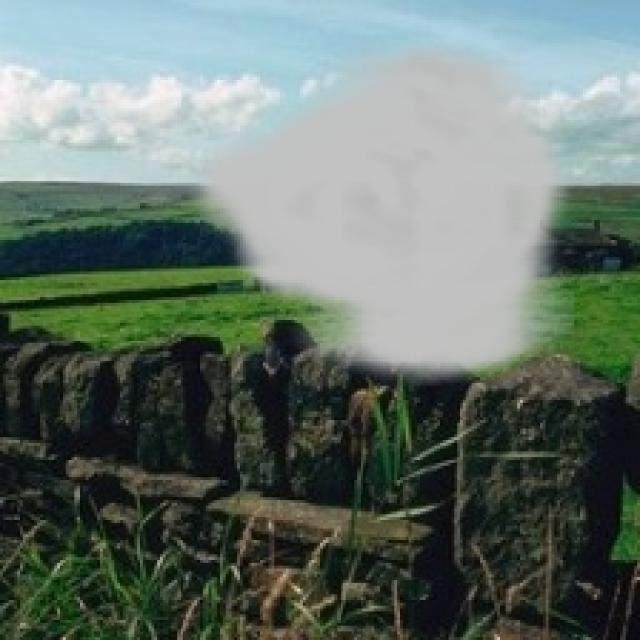Smoke: (188, 31, 574, 386)
